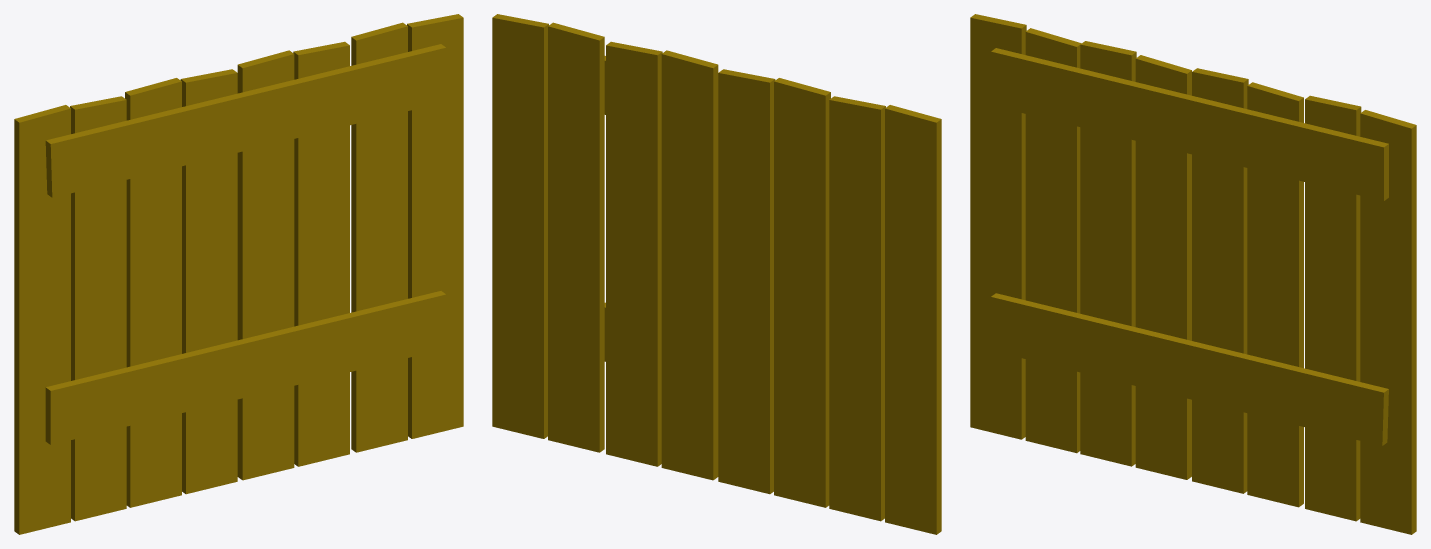
Rendered from Fence_Proxy.fbx.
3 views of the same model, side by side, from view 1: azimuth 30°, elevation 25°; view 2: azimuth 150°, elevation 25°; view 3: azimuth 330°, elevation 25° (orthographic).
Parts seen in each view (by area): view 1: FenceSupport_Lower, FenceSupport_Upper, FencePost, FencePost7, FencePost4, FencePost6, FencePost2, FencePost1, FencePost3, FencePost5; view 2: FencePost4, FencePost, FencePost6, FencePost2, FencePost3, FencePost5, FencePost1, FencePost7; view 3: FenceSupport_Upper, FenceSupport_Lower, FencePost7, FencePost, FencePost5, FencePost3, FencePost2, FencePost4, FencePost6, FencePost1.
Part boxes in pixels (x1=…): FenceSupport_Lower: x1=45, y1=291, x2=446, y2=444; FenceSupport_Upper: x1=45, y1=44, x2=446, y2=197; FencePost: x1=14, y1=105, x2=70, y2=534; FencePost7: x1=407, y1=14, x2=463, y2=438; FencePost4: x1=237, y1=50, x2=294, y2=480; FencePost6: x1=351, y1=22, x2=407, y2=452; FencePost2: x1=125, y1=78, x2=181, y2=507; FencePost1: x1=70, y1=96, x2=126, y2=521; FencePost3: x1=180, y1=69, x2=237, y2=494; FencePost5: x1=293, y1=41, x2=349, y2=466; FencePost4: x1=661, y1=50, x2=718, y2=480; FencePost: x1=885, y1=105, x2=941, y2=534; FencePost6: x1=548, y1=22, x2=604, y2=452; FencePost2: x1=774, y1=78, x2=830, y2=507; FencePost3: x1=718, y1=69, x2=775, y2=494; FencePost5: x1=606, y1=41, x2=662, y2=466; FencePost1: x1=829, y1=96, x2=885, y2=521; FencePost7: x1=492, y1=14, x2=548, y2=438; FenceSupport_Upper: x1=991, y1=48, x2=1388, y2=201; FenceSupport_Lower: x1=991, y1=293, x2=1388, y2=445; FencePost7: x1=1360, y1=110, x2=1416, y2=534; FencePost: x1=970, y1=14, x2=1026, y2=439; FencePost5: x1=1247, y1=82, x2=1303, y2=507; FencePost3: x1=1135, y1=55, x2=1191, y2=479; FencePost2: x1=1080, y1=41, x2=1136, y2=466; FencePost4: x1=1192, y1=68, x2=1248, y2=493; FencePost6: x1=1305, y1=95, x2=1361, y2=521; FencePost1: x1=1025, y1=28, x2=1081, y2=453.
Bounding box in the file's own units: 226 × 201 × 9.06.
